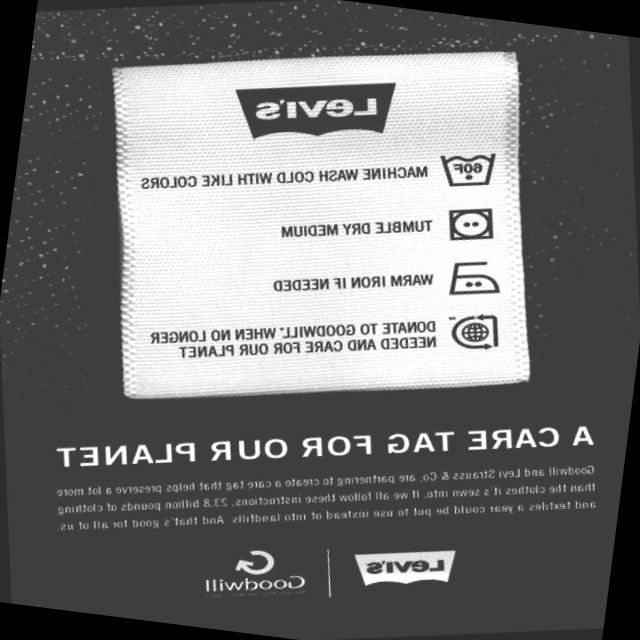30C: (431, 137, 504, 199)
iron_medium: (438, 248, 508, 308)
tumble_dry_medium: (439, 199, 504, 252)
